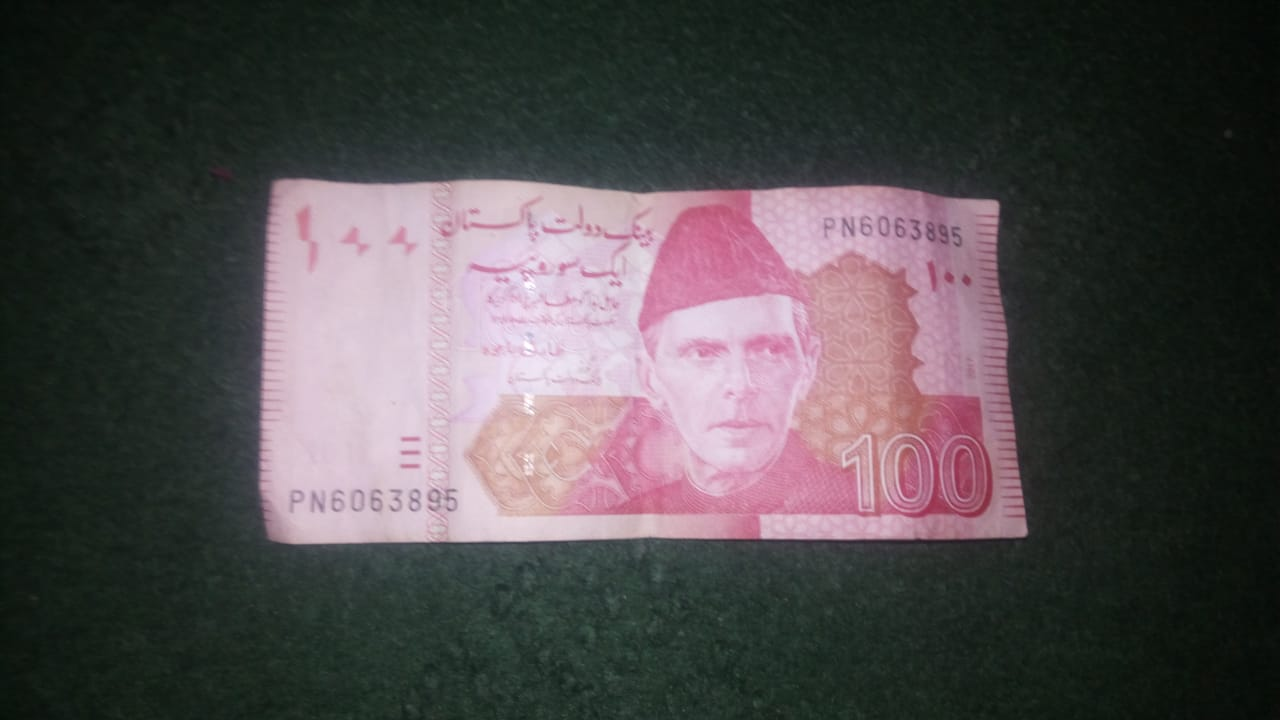100 rupee: (259, 173, 1035, 558)
